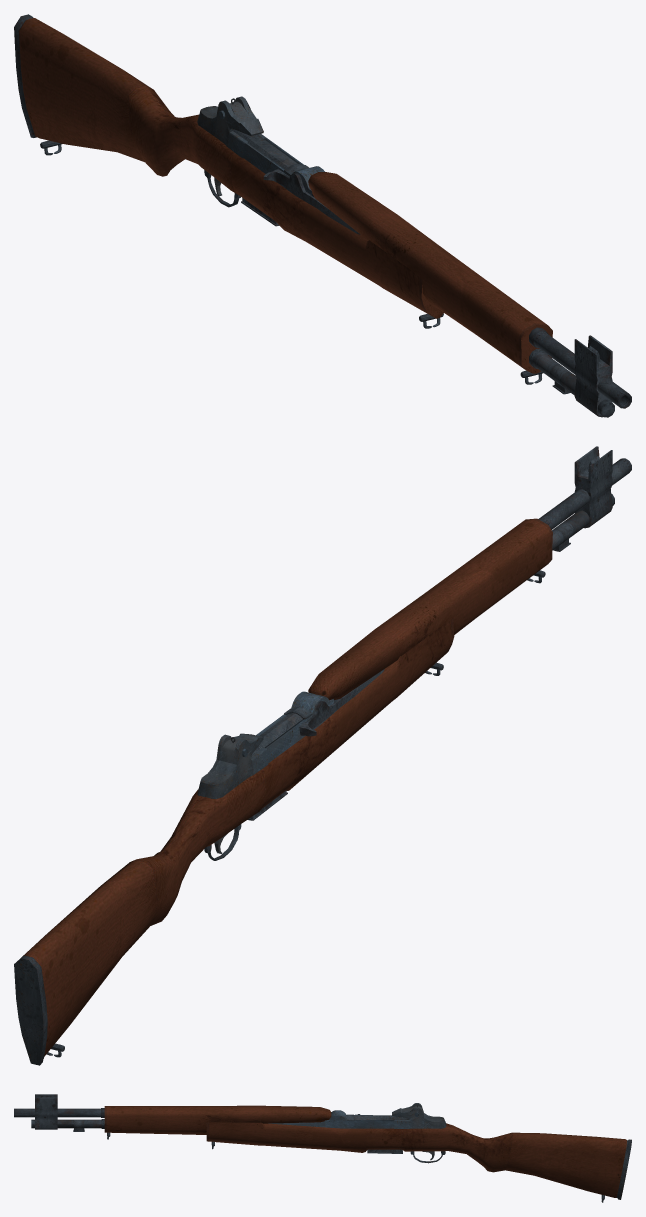
Rendered from m1-garand.glb.
3 views of the same model, one above another, from view 1: azimuth 30°, elevation 25°; view 2: azimuth 150°, elevation 25°; view 3: azimuth 270°, elevation 25° (orthographic). The views are drawn at different scales.
Parts seen in each view (by area): view 1: Object_2; view 2: Object_2; view 3: Object_2.
Part boxes in pixels (bbox=[...]): Object_2: bbox=[14, 14, 631, 417]; Object_2: bbox=[14, 446, 631, 1065]; Object_2: bbox=[14, 1094, 631, 1202].
Bounding box in the file's own units: 1.16 × 5.14 × 27.37.
Materials: 1 (1 with a texture image).
